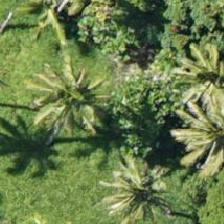coconut_tree: (31, 45, 121, 135), (96, 139, 186, 223), (163, 16, 223, 106), (174, 85, 223, 175)
